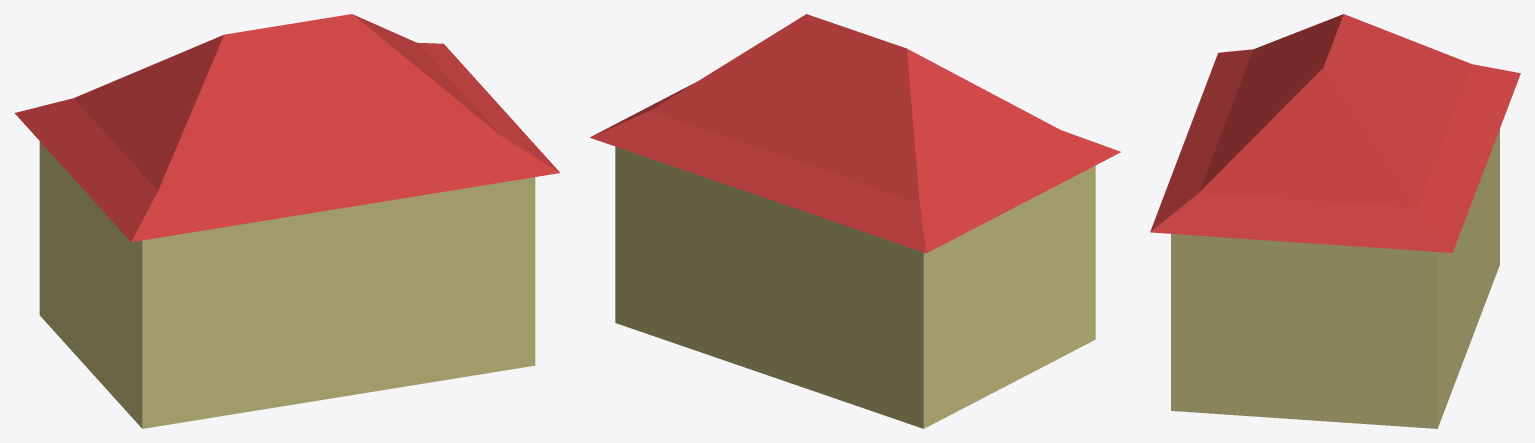
3 views of the same model, side by side, from view 1: azimuth 30°, elevation 25°; view 2: azimuth 150°, elevation 25°; view 3: azimuth 270°, elevation 25° (orthographic). The views are drawn at different scales.
Size of the model in its own units: 19.51 by 15.27 by 13.49.
